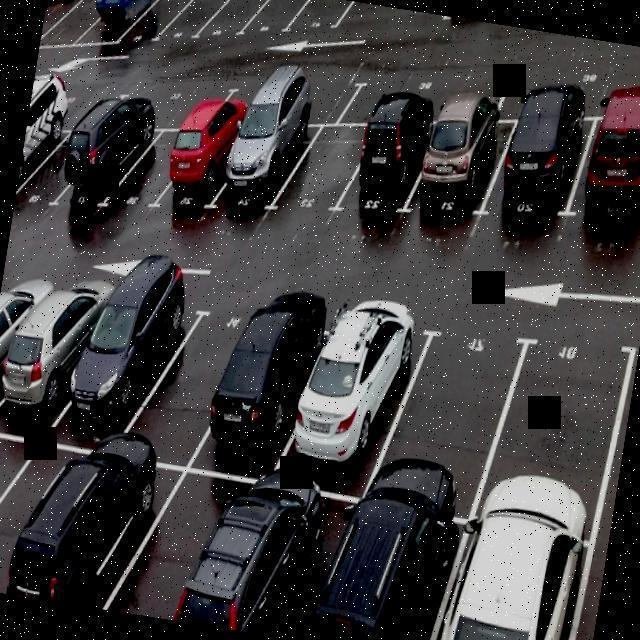car: (31, 450, 152, 614), (435, 519, 586, 640), (310, 300, 408, 483), (80, 284, 180, 462), (8, 265, 102, 442), (482, 100, 586, 255), (226, 496, 336, 640), (328, 503, 440, 640), (229, 300, 312, 472), (414, 110, 506, 244), (348, 106, 435, 238), (224, 103, 310, 226), (578, 104, 640, 263), (64, 112, 150, 224), (170, 107, 240, 228), (0, 267, 39, 434), (15, 112, 60, 206)
free: (398, 310, 502, 520), (498, 328, 626, 496), (105, 464, 228, 626), (148, 300, 246, 472), (348, 44, 508, 144), (0, 436, 73, 601), (515, 36, 640, 130), (284, 117, 365, 232), (120, 110, 192, 232), (25, 105, 105, 210), (230, 65, 346, 129), (0, 411, 31, 593), (29, 72, 120, 130), (120, 0, 196, 58), (118, 80, 222, 120), (162, 0, 233, 58), (202, 0, 274, 56), (247, 0, 317, 55), (298, 0, 356, 45)
